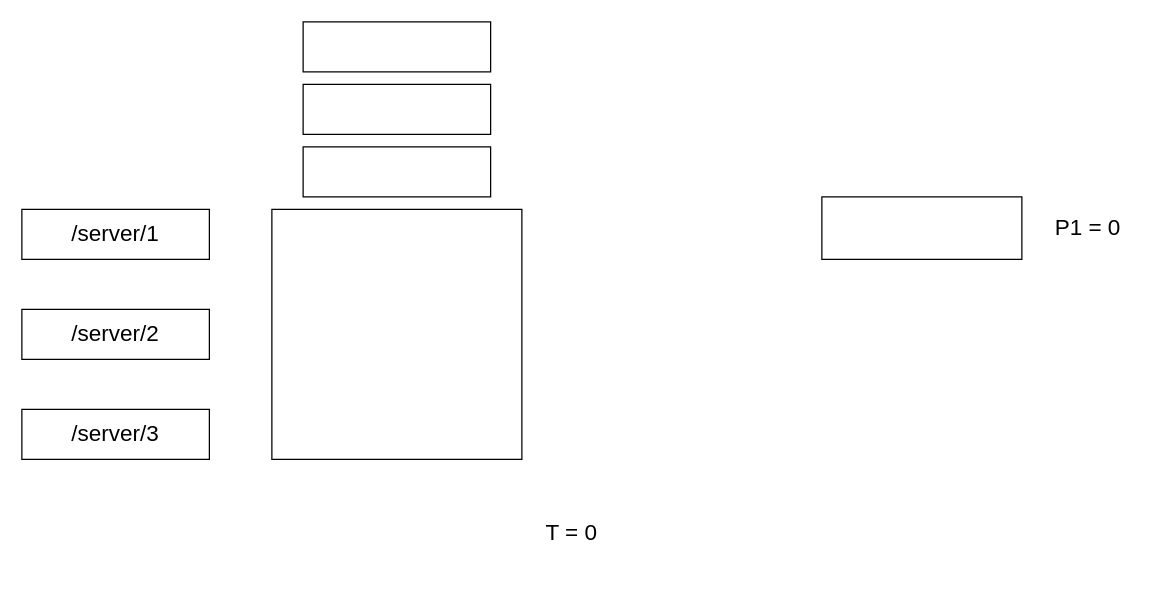
Image size: 1169x606. Some labels were removed from this diagram. The shapes that lost their labels are listed below. From the top down, each one's box as (x1, y1, x2, y2) in pixels, then its label:
(821, 196, 1022, 259): server
(271, 208, 522, 459): Client
